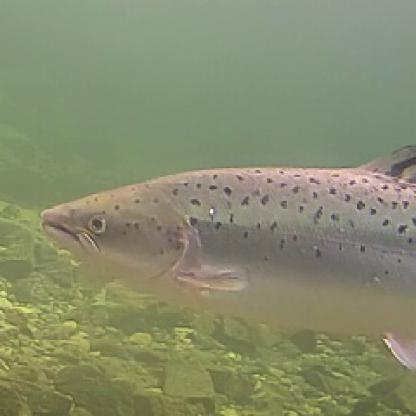salmon: (31, 134, 414, 375)
